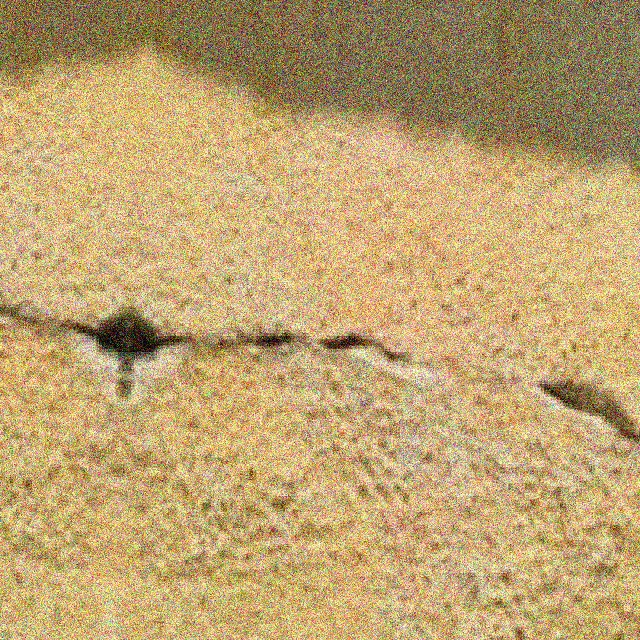SurfaceCrack: (24, 252, 426, 402), (522, 356, 640, 460)
